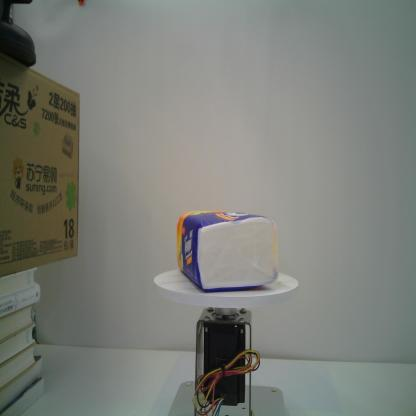Tissue: (176, 211, 279, 293)
